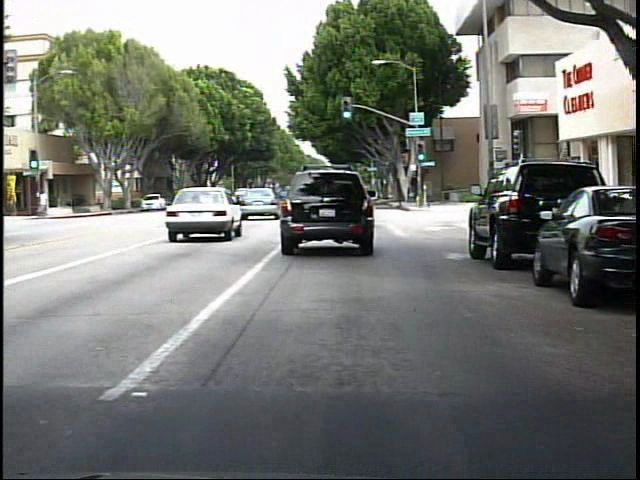person: (42, 187, 53, 218)
